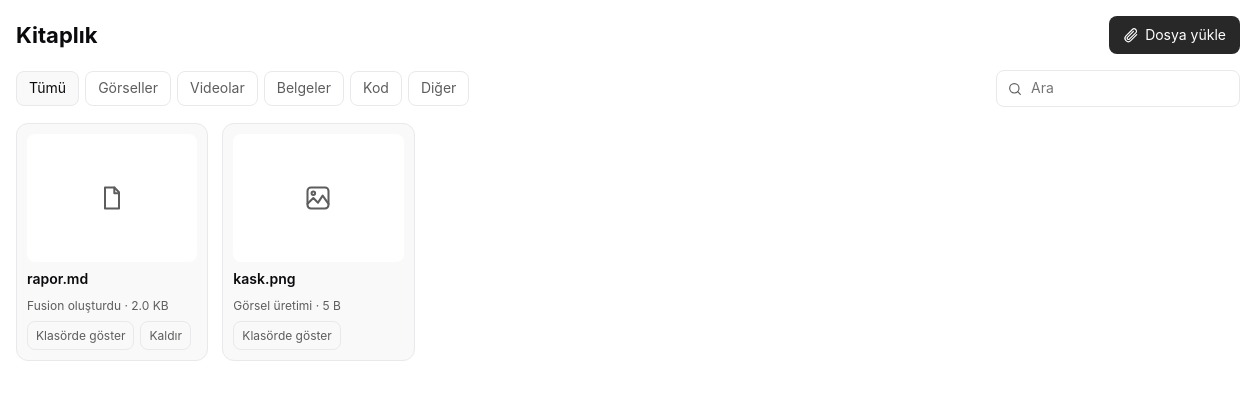
Scenario: LibraryScreen › dosya seçici reddedilirse yakalanmamış hata değil uyarı gösterir (U6-03)
Expected: the text "rapor.md" is shown, top-left (27, 270), bottom-right (88, 286)
Click the button "Dosya yükle".
click(1175, 35)  # box top-left (1109, 16), bottom-right (1240, 54)
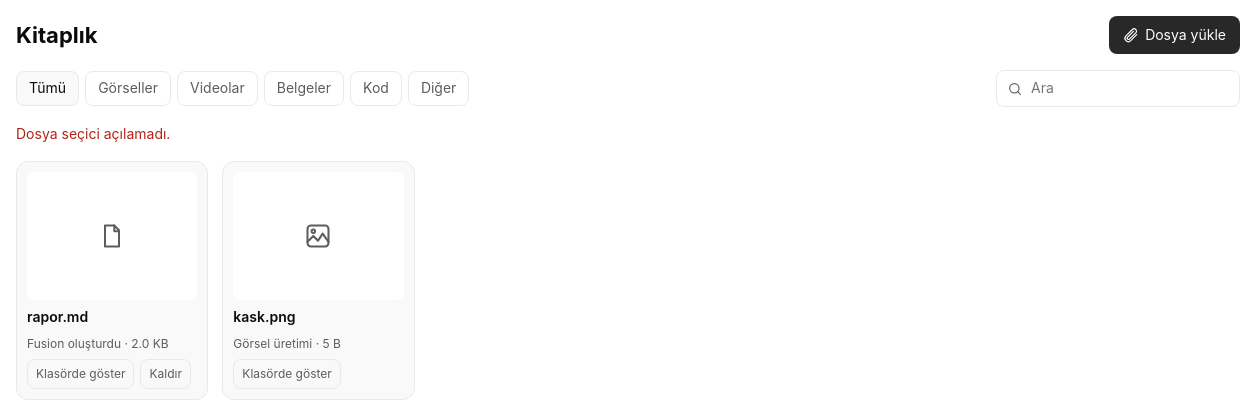
Expected: the message reads "Dosya seçici açılamadı.", top-left (16, 125), bottom-right (170, 142)
